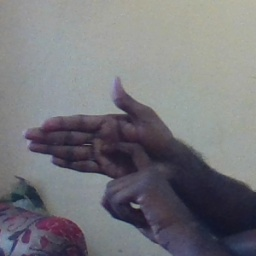R: (27, 79, 183, 220)
